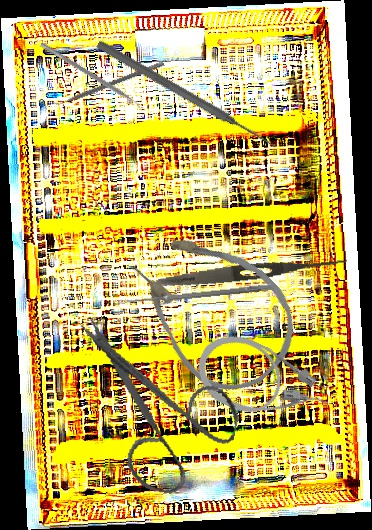Cannula: (109, 203, 317, 412), (186, 322, 339, 446)
Dressing Forceps: (155, 251, 349, 292)
Iris Scissors: (49, 315, 253, 505)
Pusher: (94, 38, 280, 153)
Spatula Surgical: (36, 41, 146, 113), (51, 56, 165, 110)
Surgical Spoon: (118, 282, 275, 307)
